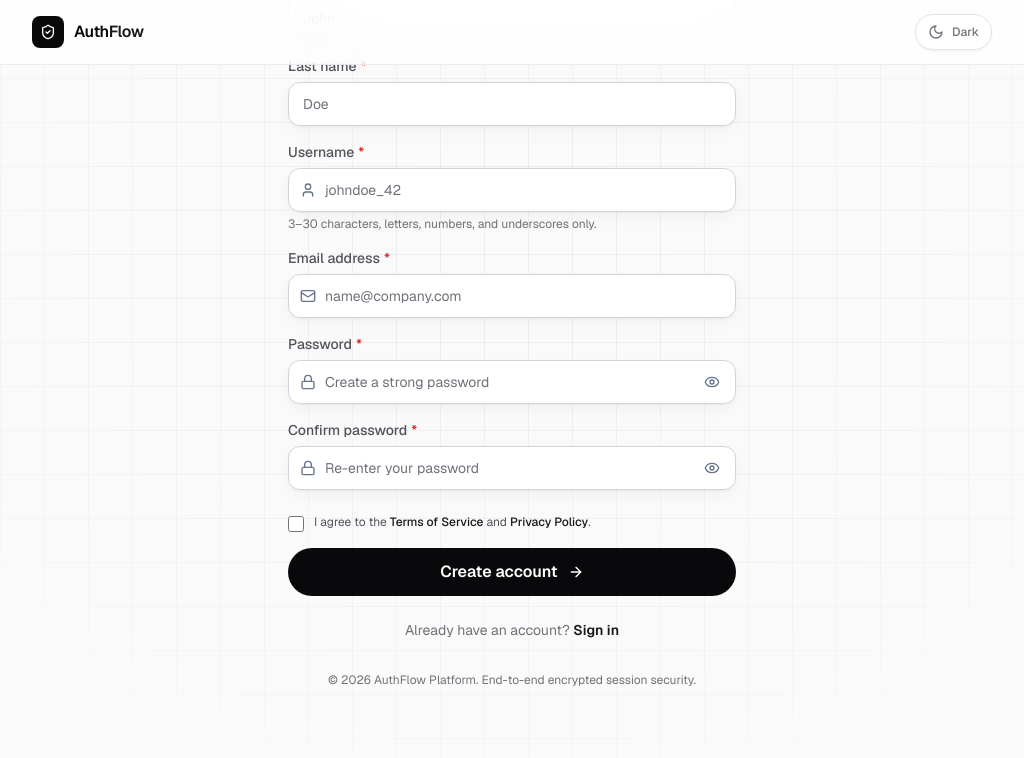
Test: Form Validation Tests › Registration Form Validation › validates required fields on register submit
(page scrolled)
Click the button "Create account".
click(512, 572)  # box [288,548,736,596]
(page scrolled)
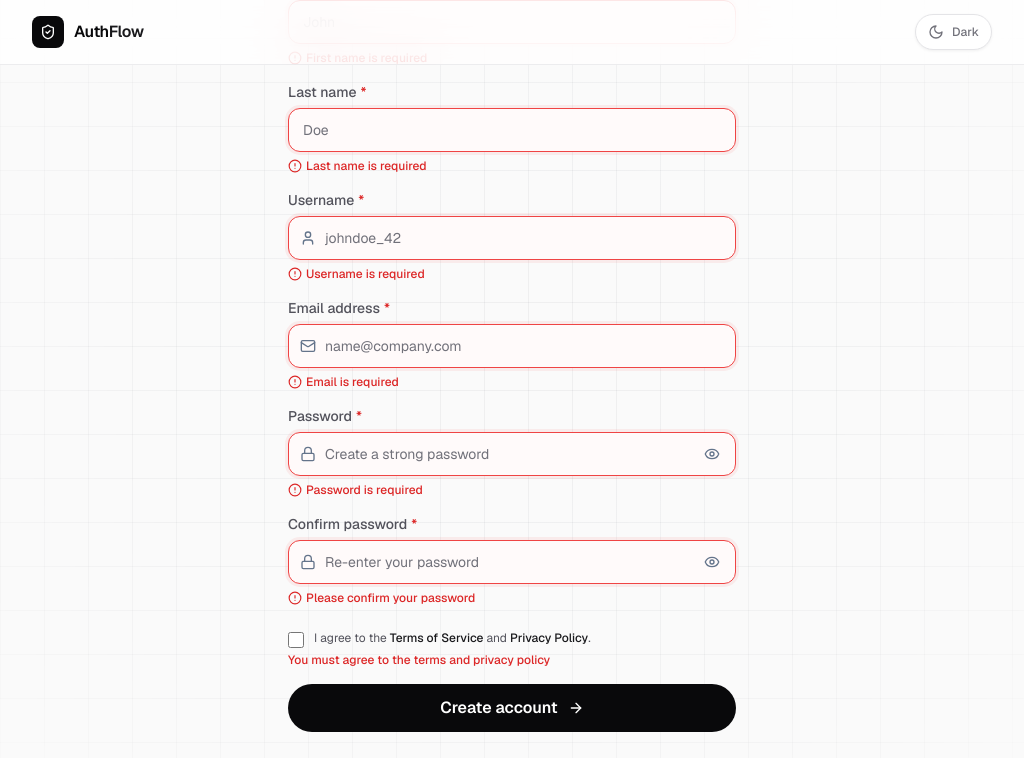
expect the text "First name is required" is shown: met, box [306,50,427,66]
expect the text "Last name is required" is shown: met, box [306,158,427,174]
expect the text "Username is required" is shown: met, box [306,266,425,282]
